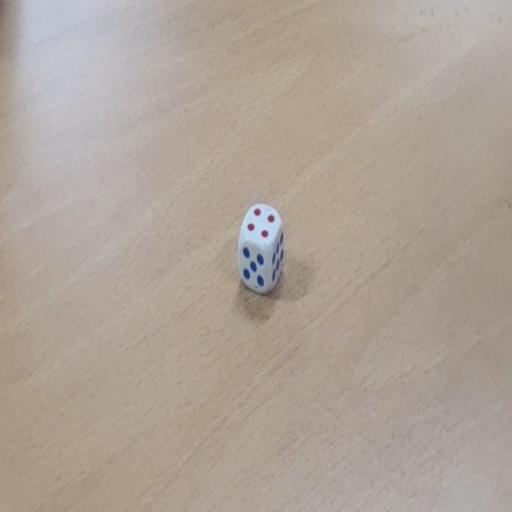dice_4: (237, 202, 285, 297)
